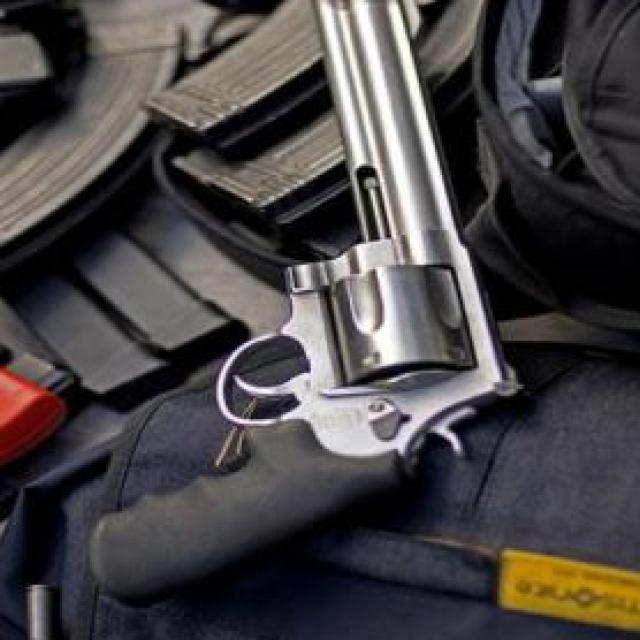pistol: (83, 0, 525, 605)
